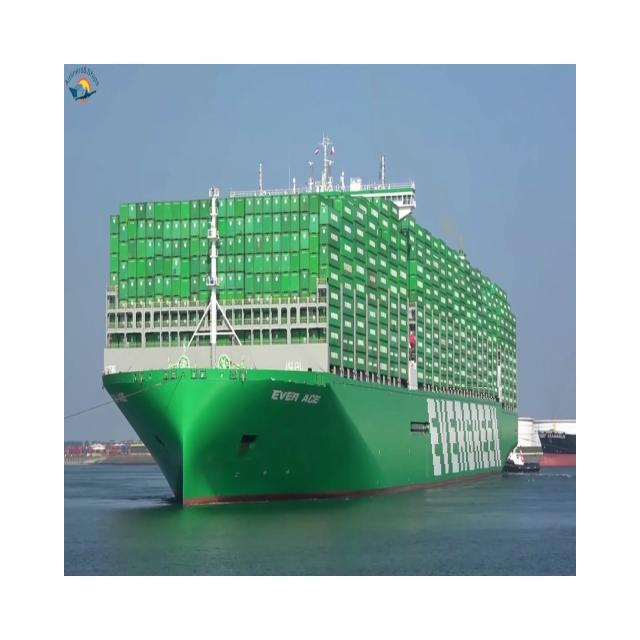OCR: (414, 387, 502, 488), (266, 373, 326, 418)
